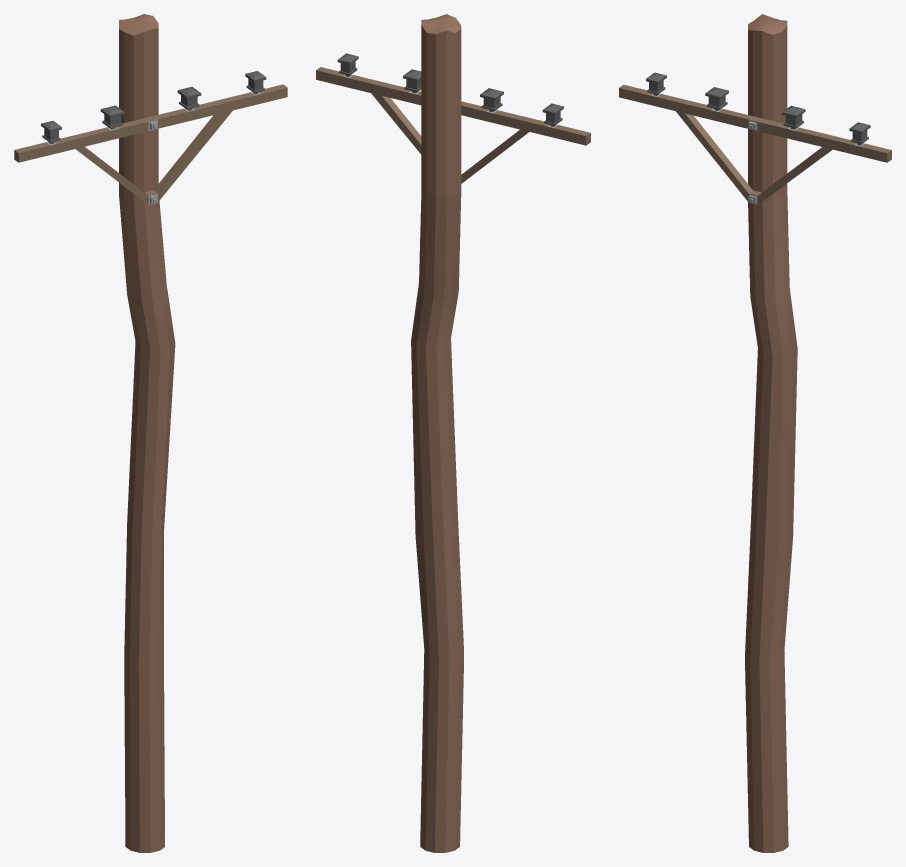
File: FP_PowerPole_NoCables.fbx
3 renders of one model, left to right at view 1: azimuth 30°, elevation 25°; view 2: azimuth 150°, elevation 25°; view 3: azimuth 330°, elevation 25°, orthographic.
Visible parts, largest first — view 1: pCylinder8; view 2: pCylinder8; view 3: pCylinder8.
Part boxes in pixels (<box>): pCylinder8: <box>14,14,287,852</box>; pCylinder8: <box>316,14,590,852</box>; pCylinder8: <box>619,14,891,852</box>.
Size of the model in its own units: 9.65 by 28.25 by 1.66.
